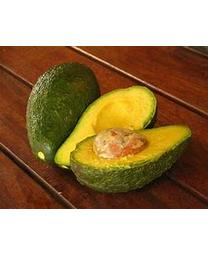avocado: (56, 84, 195, 191), (26, 60, 100, 164)
